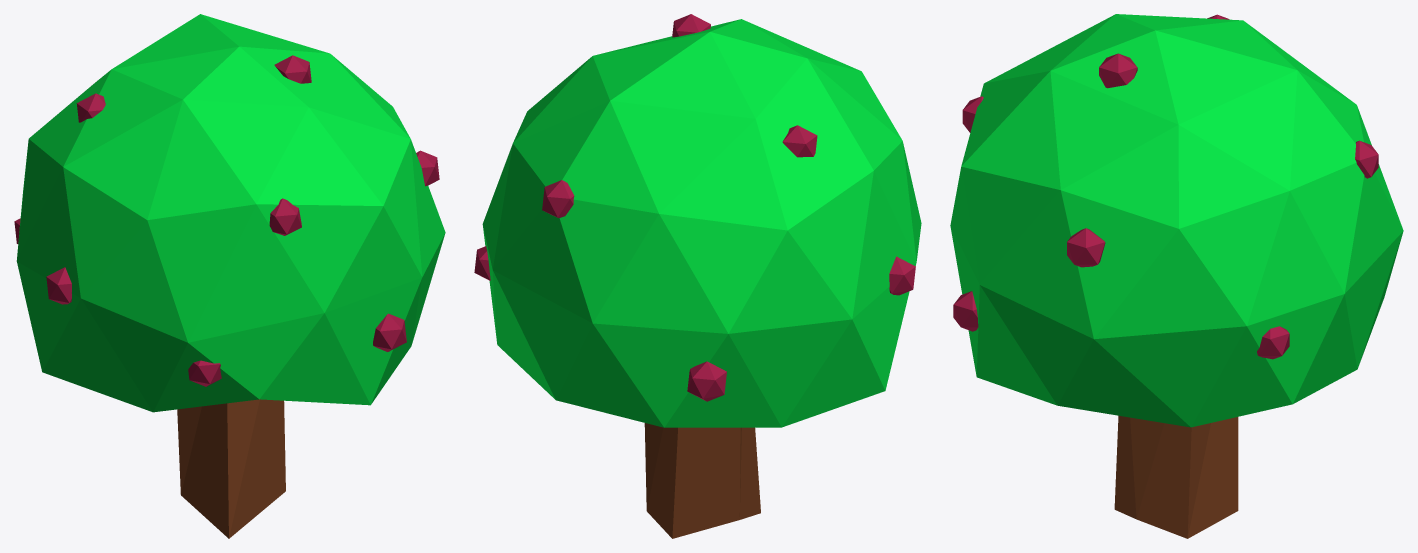
Rendered from BerryBush1.fbx.
3 renders of one model, left to right at view 1: azimuth 30°, elevation 25°; view 2: azimuth 150°, elevation 25°; view 3: azimuth 270°, elevation 25°, orthographic. The views are drawn at different scales.
Parts seen in each view (by area): view 1: Cube; view 2: Cube; view 3: Cube.
Boxes of the visible parts, x1,y1,x2,y2 form: Cube: (14, 14, 445, 538); Cube: (474, 14, 921, 538); Cube: (950, 14, 1403, 538).
Bounding box in the file's own units: 196 × 238 × 197.
